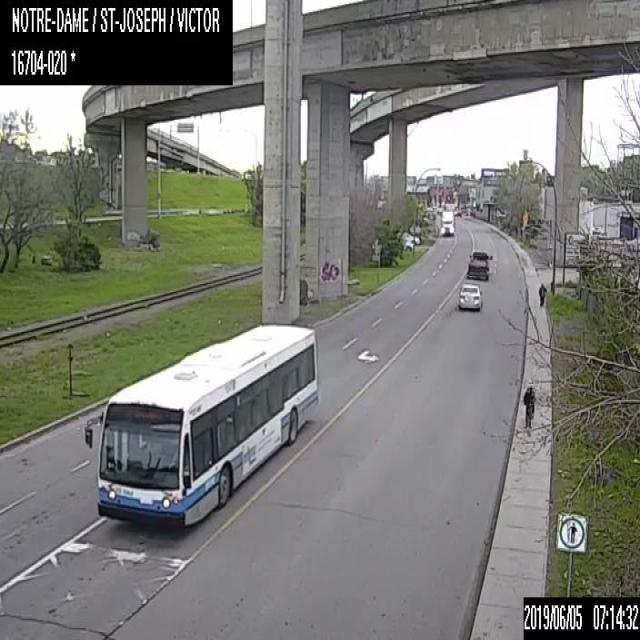bus: (84, 325, 318, 528)
pedestrian: (523, 384, 535, 427), (538, 282, 546, 306)
vehicle: (466, 250, 492, 278), (458, 282, 482, 308), (440, 210, 452, 234), (397, 232, 419, 244), (402, 240, 412, 250)
